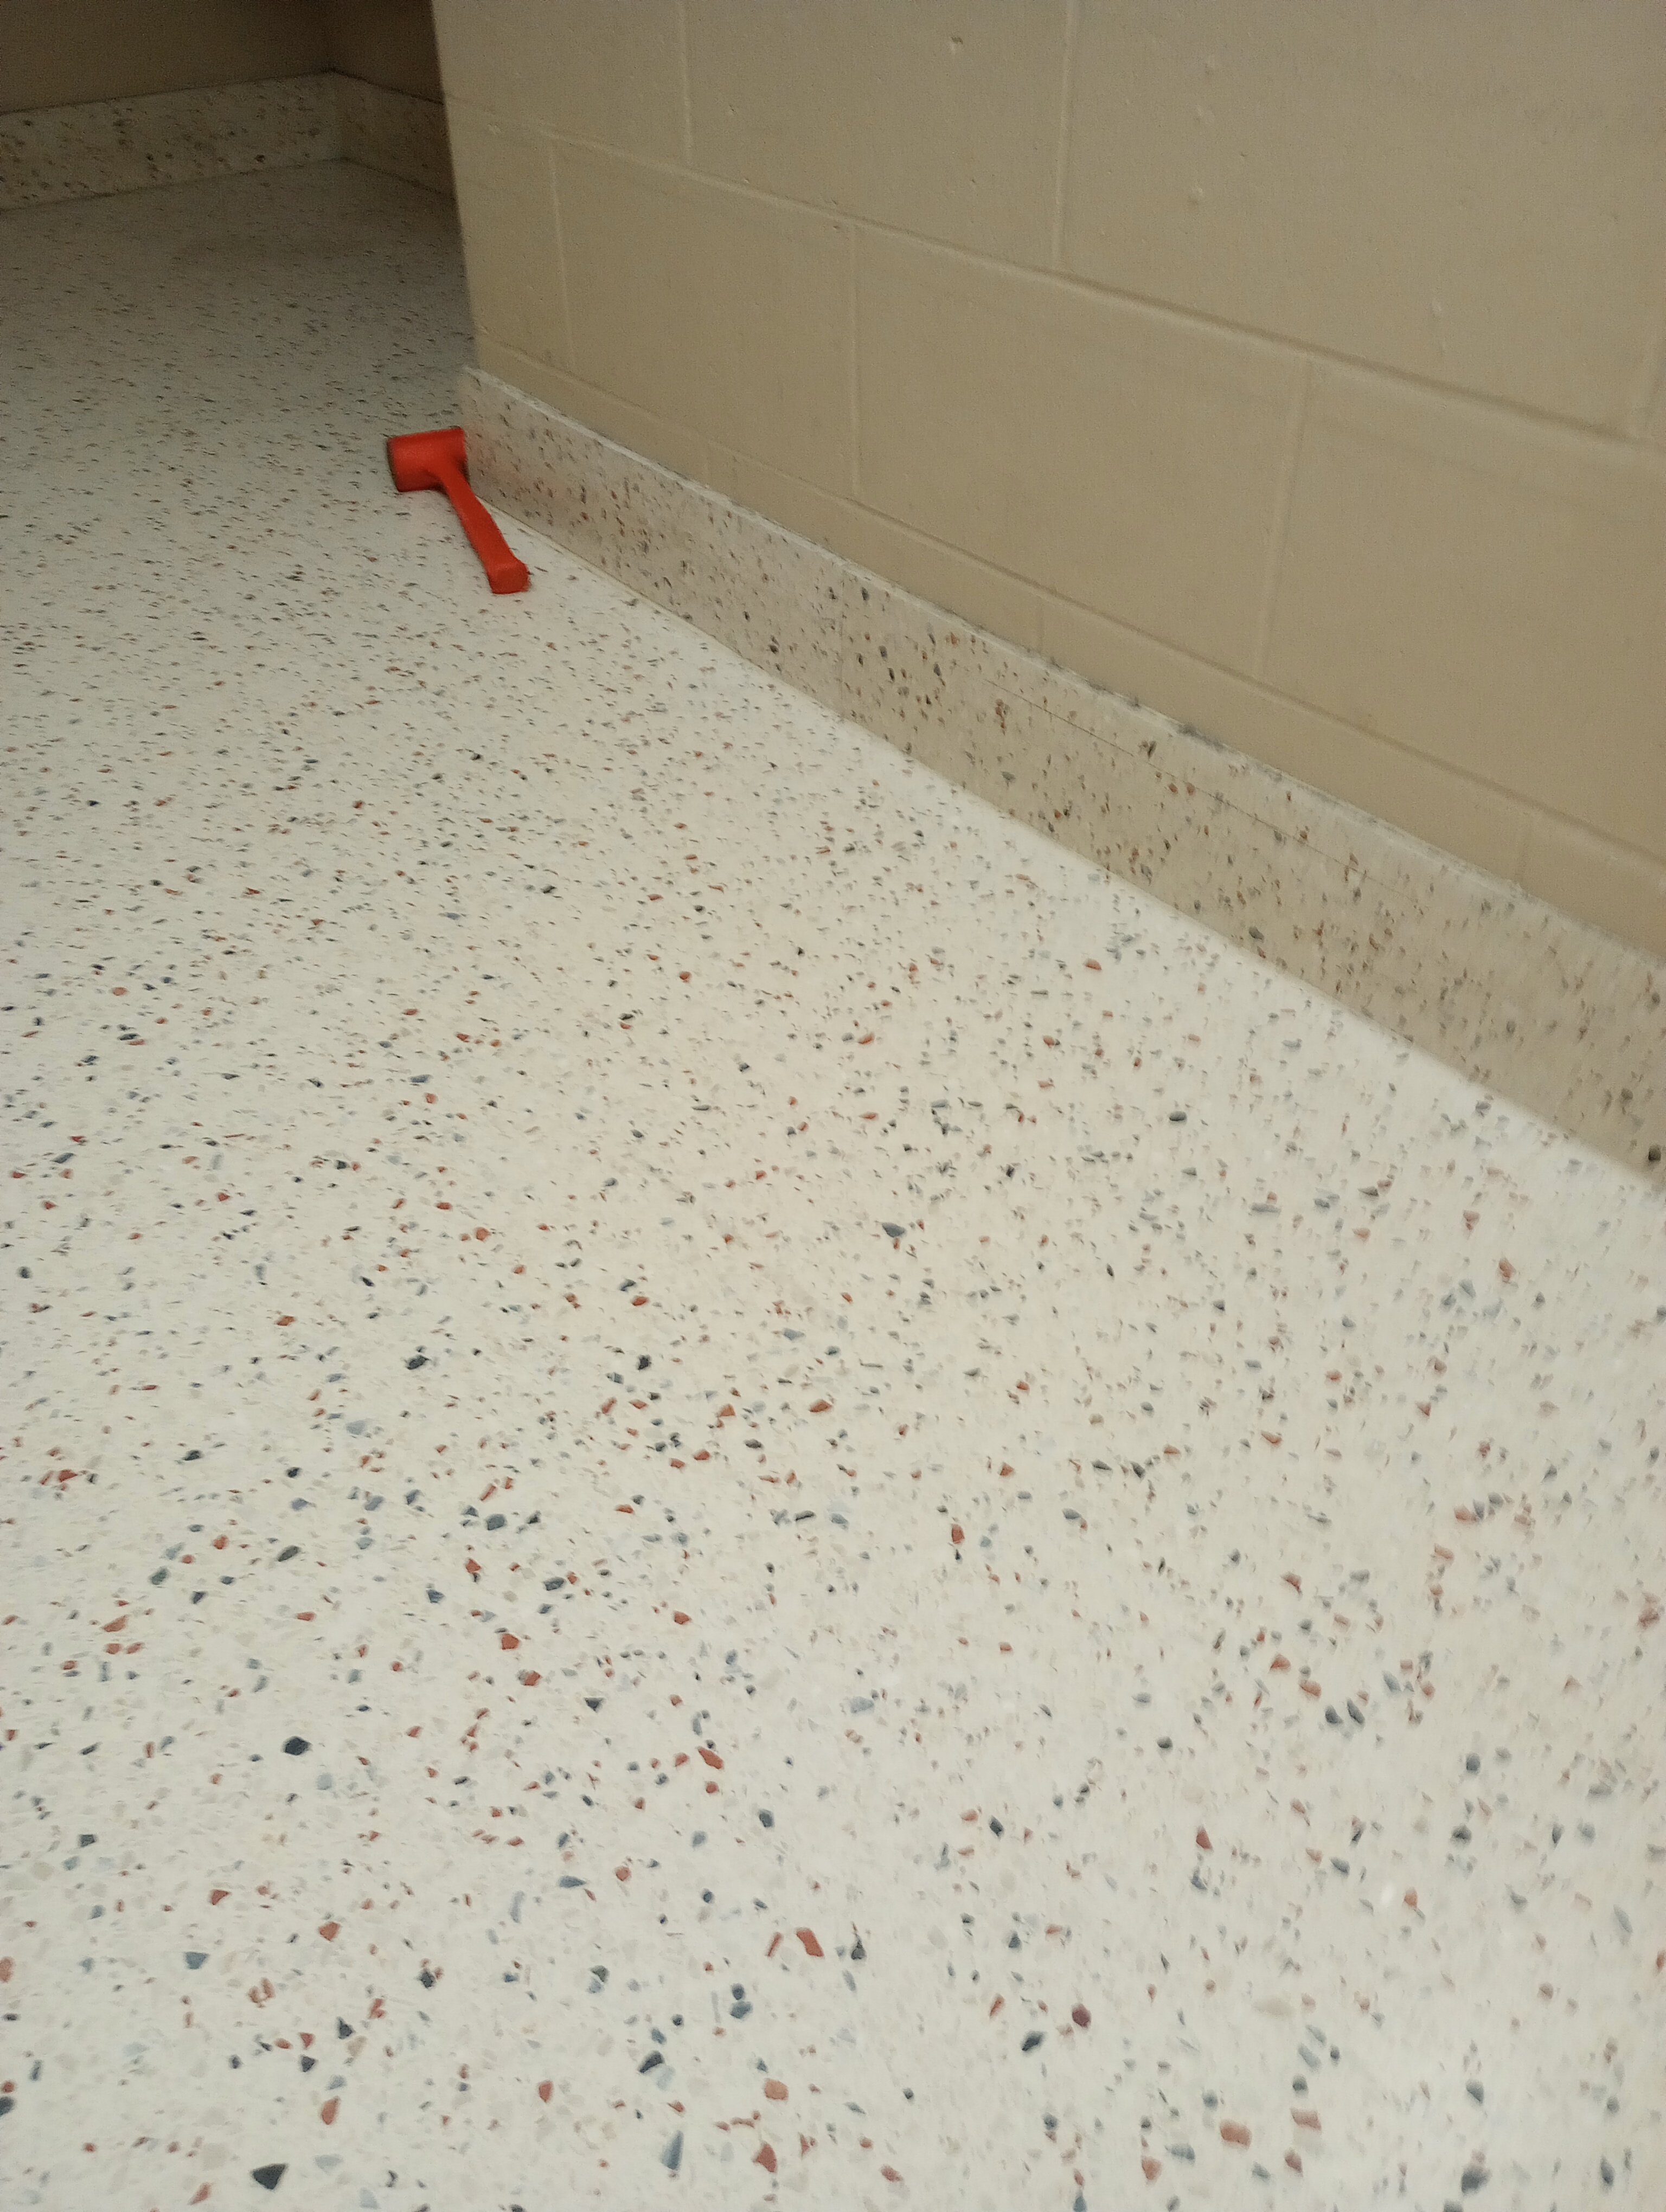bottle: (380, 413, 535, 614)
